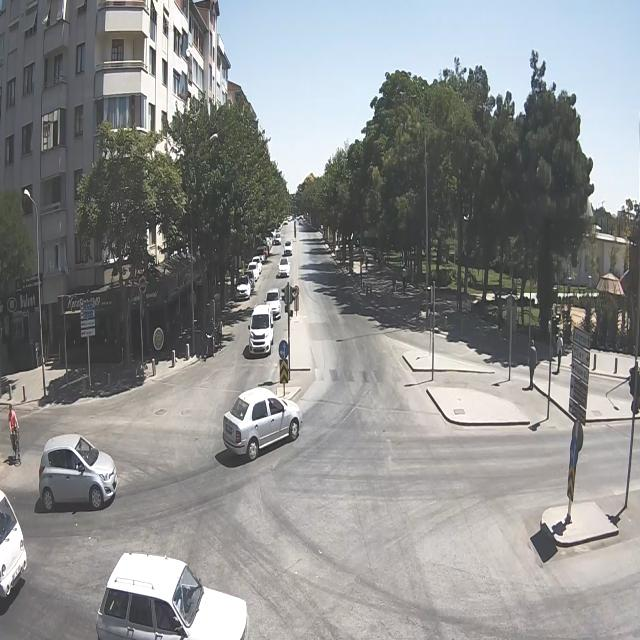Car: (92, 551, 251, 640), (35, 434, 121, 515), (220, 385, 303, 464), (245, 306, 274, 359), (266, 286, 282, 318), (276, 254, 293, 277), (244, 259, 260, 282), (238, 274, 250, 300), (272, 227, 284, 246), (283, 236, 296, 253), (253, 252, 265, 268)
Cycle: (5, 402, 28, 458)
Van: (0, 486, 35, 601)
